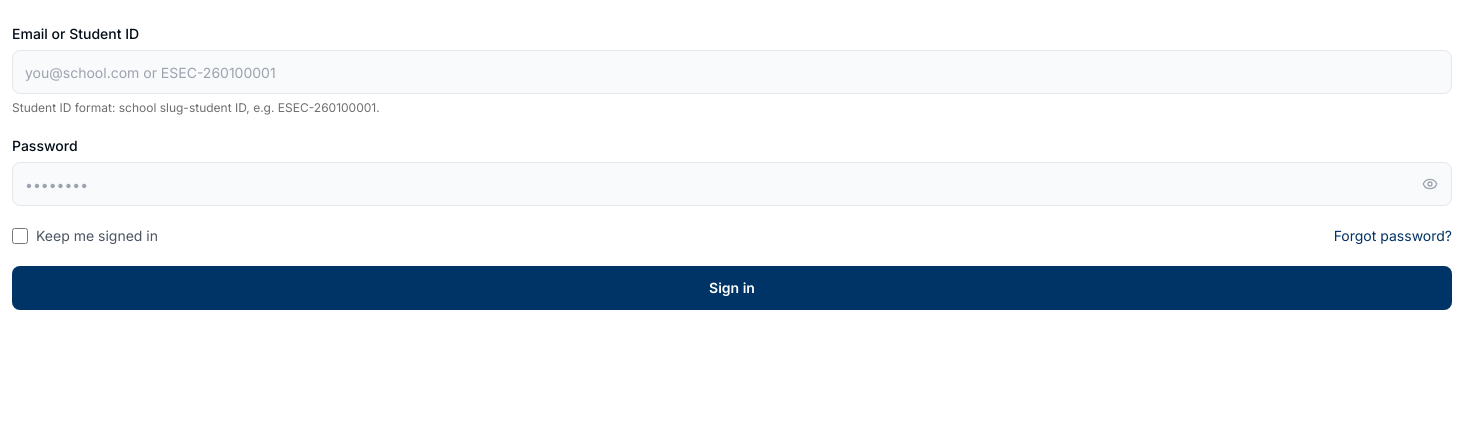
sign-in form › shows the red Access denied banner for another role's account
This screenshot has width=1464, height=430.
Type "teacher@school.test" into the field labelled "Email or Student ID" at (732, 72), box [12, 50, 1452, 94]
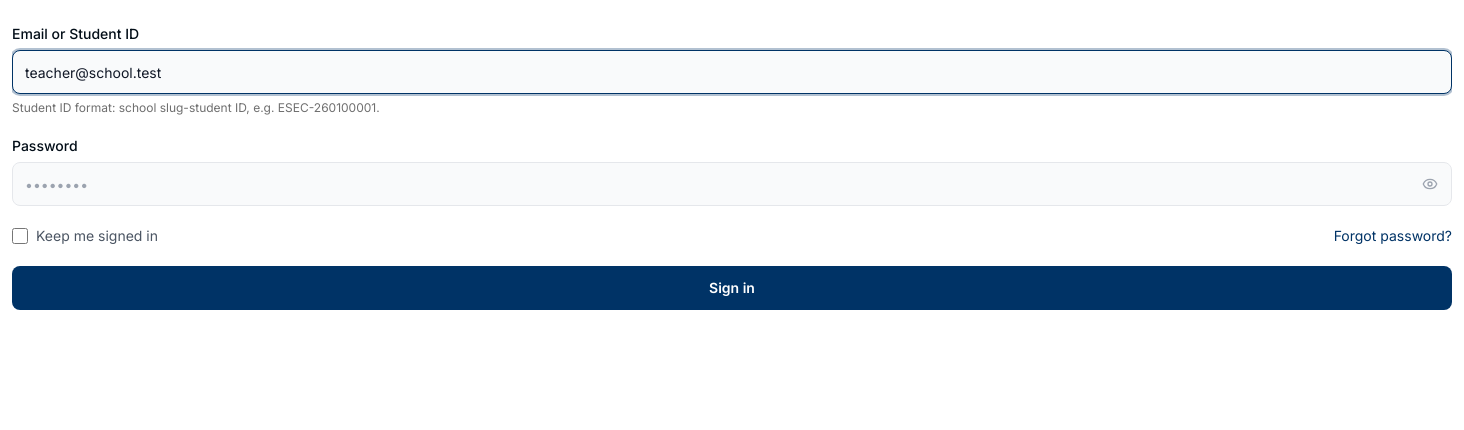
Type "Secret#1" into the password field labelled "Password" at (732, 184), box [12, 162, 1452, 206]
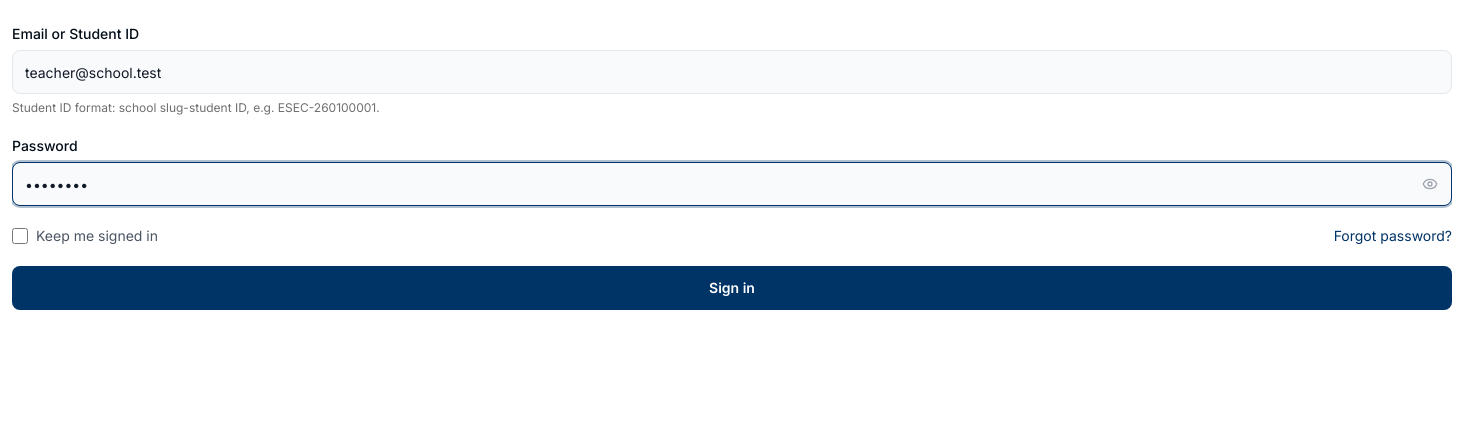
Click the button "Sign in" at (732, 288), box [12, 266, 1452, 310]
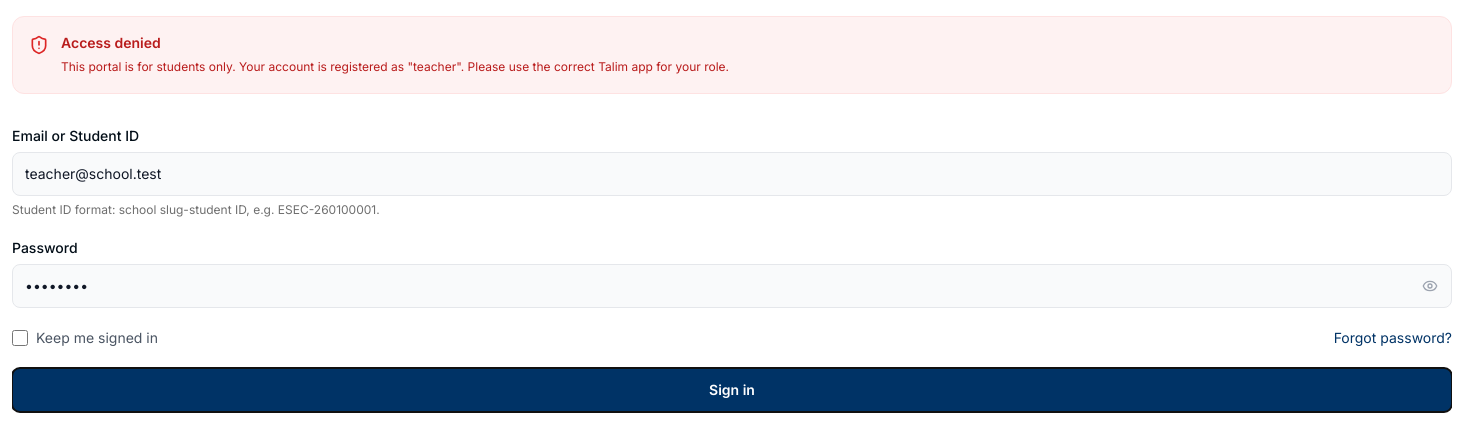
expect the message shows "Access denied": met, box [61, 34, 161, 51]
expect the message shows "This portal is for students only. Your account is registered as \"teacher\".": met, box [61, 59, 729, 74]
